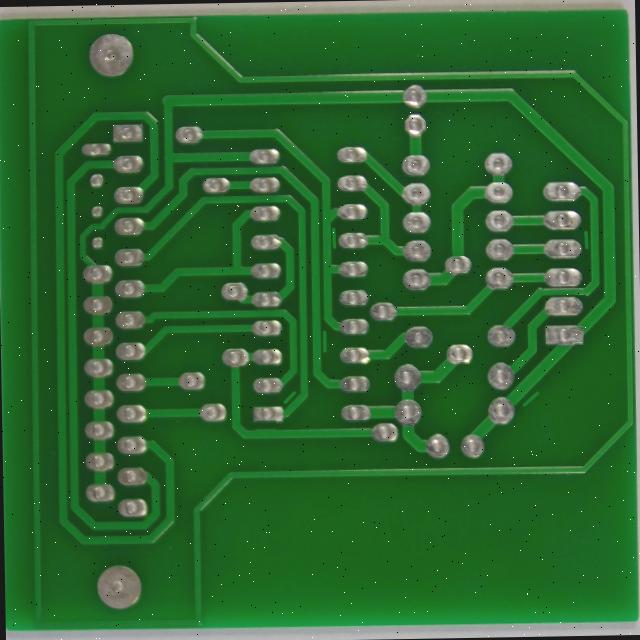spurious_copper: (511, 411, 538, 436), (574, 237, 594, 270), (305, 238, 323, 267), (296, 345, 311, 379), (255, 410, 276, 433)
